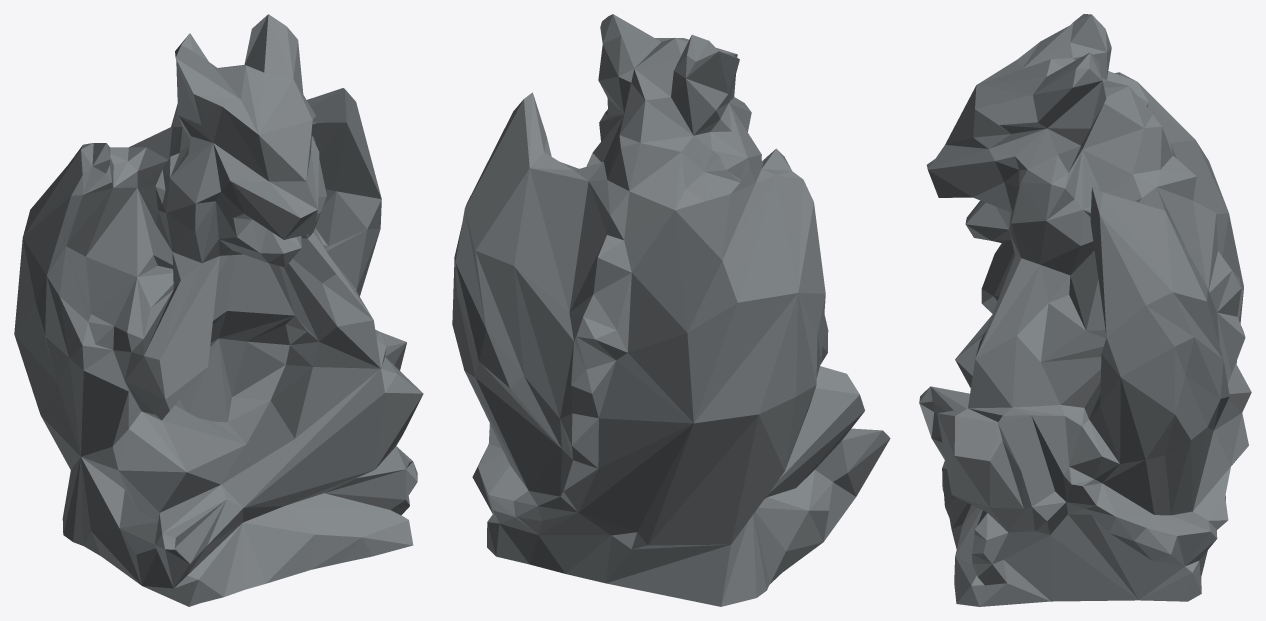
The model's file is Gargouille_2.FBX.
The picture shows the model from 3 angles, left to right: view 1: azimuth 30°, elevation 25°; view 2: azimuth 150°, elevation 25°; view 3: azimuth 270°, elevation 25°; orthographic projection. The views are drawn at different scales.
Parts seen in each view (by area): view 1: Gargouille_2; view 2: Gargouille_2; view 3: Gargouille_2.
Part boxes in pixels (left/top/right/bottom): Gargouille_2: left=14, top=14, right=423, bottom=606; Gargouille_2: left=452, top=14, right=890, bottom=606; Gargouille_2: left=919, top=14, right=1251, bottom=606.
Size of the model in its own units: 69.52 by 94.57 by 55.62.
1 material, 1 textured.
